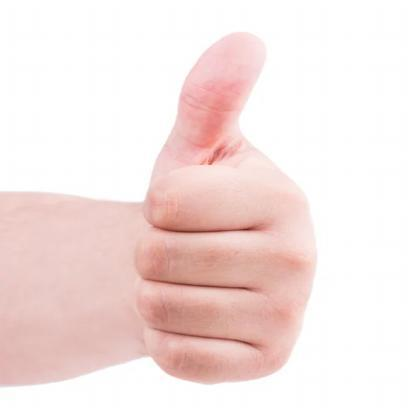thumb_up: (126, 27, 322, 385)
